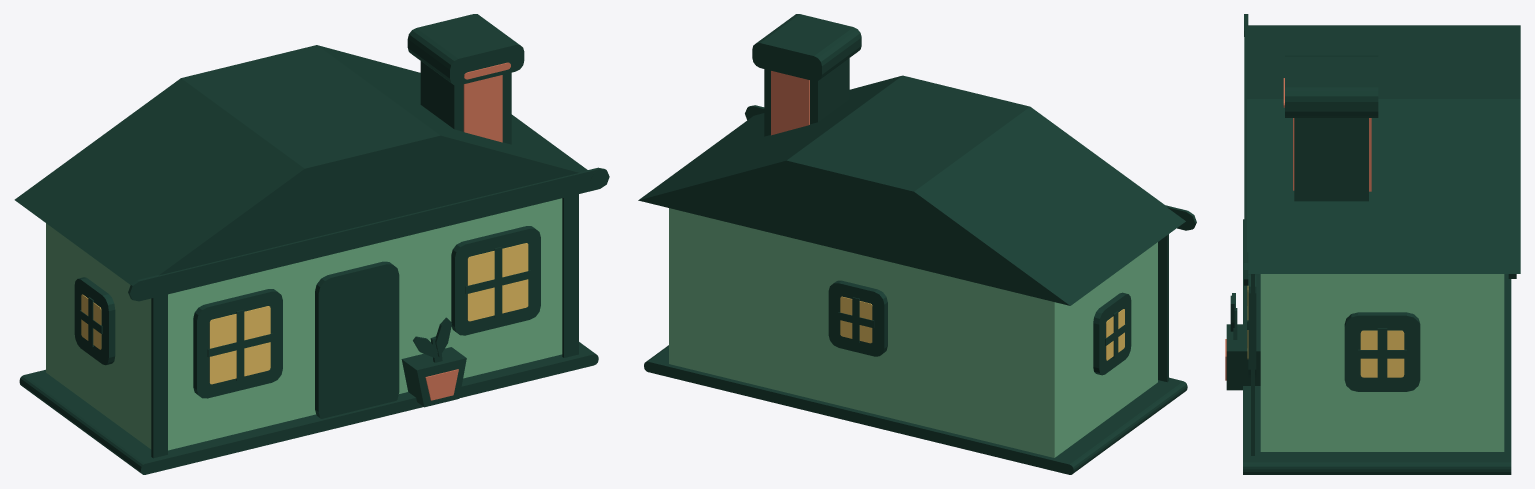
File: variant-03.glb
The picture shows the model from 3 angles, left to right: view 1: azimuth 30°, elevation 25°; view 2: azimuth 150°, elevation 25°; view 3: azimuth 270°, elevation 25°; orthographic projection. The views are drawn at different scales.
Visible parts, largest first — view 1: Bungalow; view 2: Bungalow; view 3: Bungalow.
Boxes of the visible parts, x1,y1,x2,y2 form: Bungalow: (14,14,609,474); Bungalow: (638,14,1196,474); Bungalow: (1225,14,1520,474).
Bounding box in the file's own units: 1.29 × 0.8257 × 0.6229.
